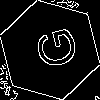G: (25, 25, 79, 74)
